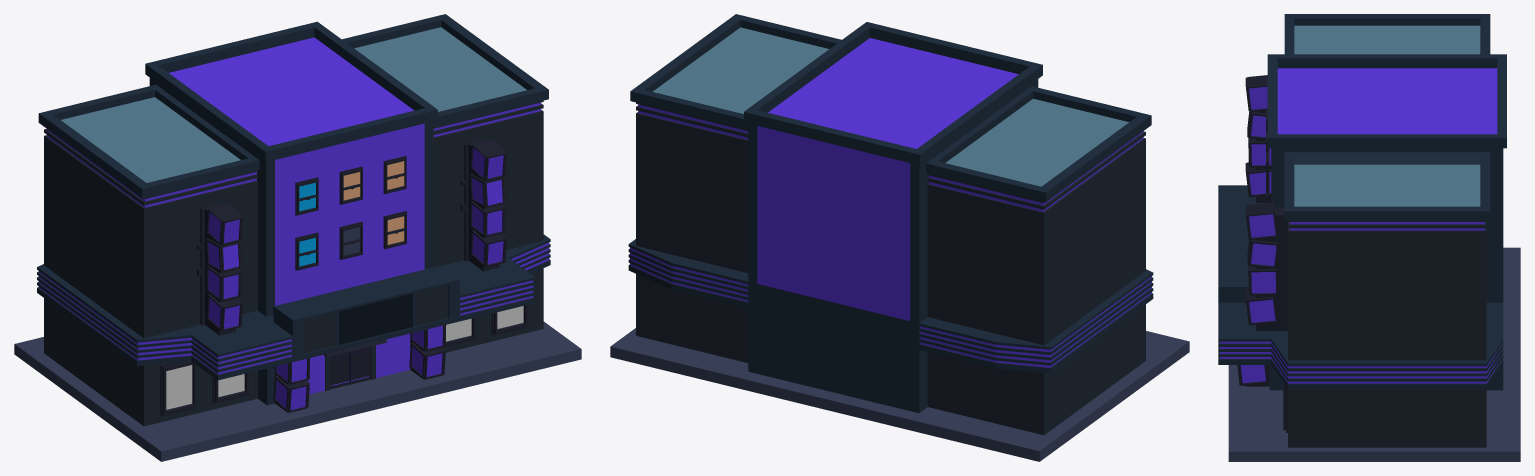
The model's file is Building_BigCityVideo.fbx.
3 views of the same model, side by side, from view 1: azimuth 30°, elevation 25°; view 2: azimuth 150°, elevation 25°; view 3: azimuth 270°, elevation 25° (orthographic). The views are drawn at different scales.
Visible parts, largest first — view 1: Cube.784, Cube.785, Cube.786; view 2: Cube.784; view 3: Cube.784.
Boxes of the visible parts, <box> form: Cube.784: <box>14,14,581,461</box>; Cube.785: <box>350,346,370,384</box>; Cube.786: <box>330,351,350,389</box>; Cube.784: <box>610,14,1189,461</box>; Cube.784: <box>1218,14,1520,461</box>.
Bounding box in the file's own units: 1851 × 1117 × 1159.
